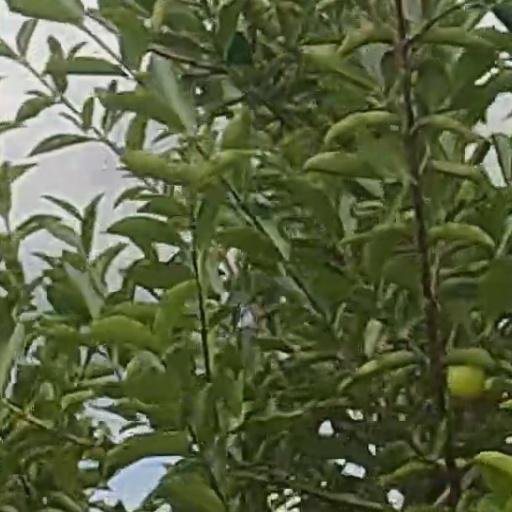acerola_verde: (449, 365, 485, 400)
